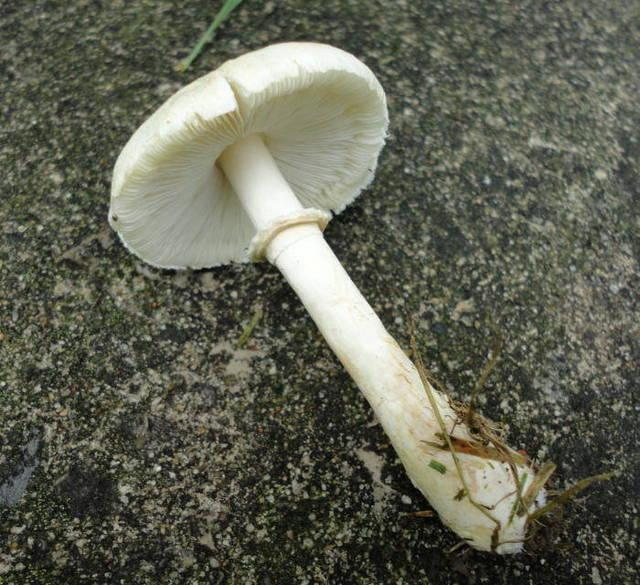Non-edible Mushroom: (106, 39, 557, 557)
